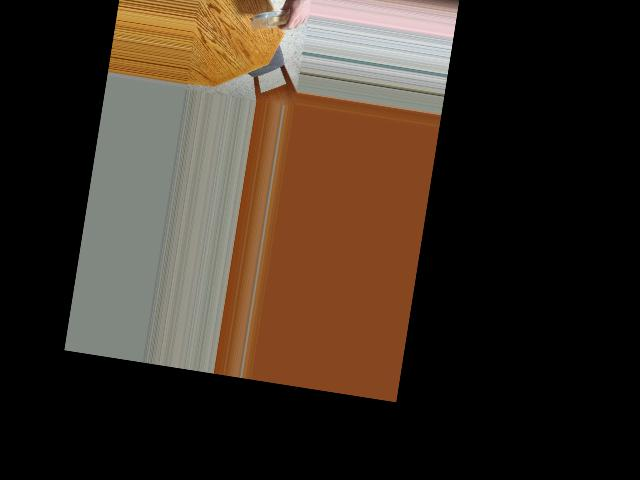cheese: (254, 4, 290, 37)
